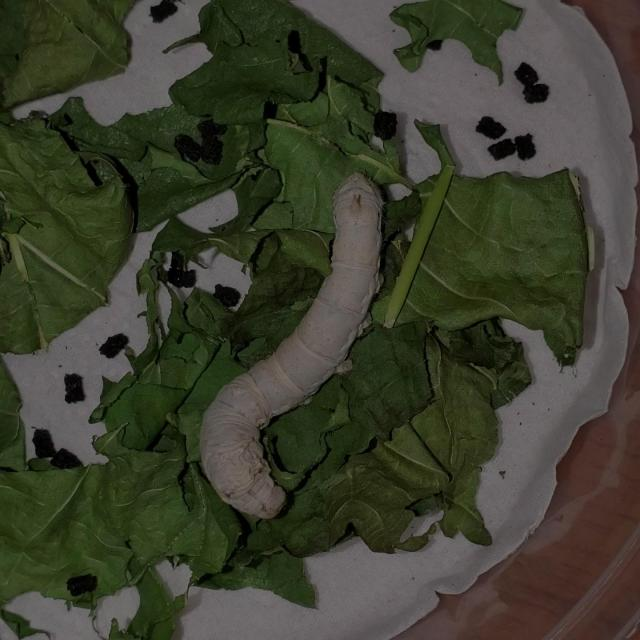Healthy: (163, 152, 419, 538)
